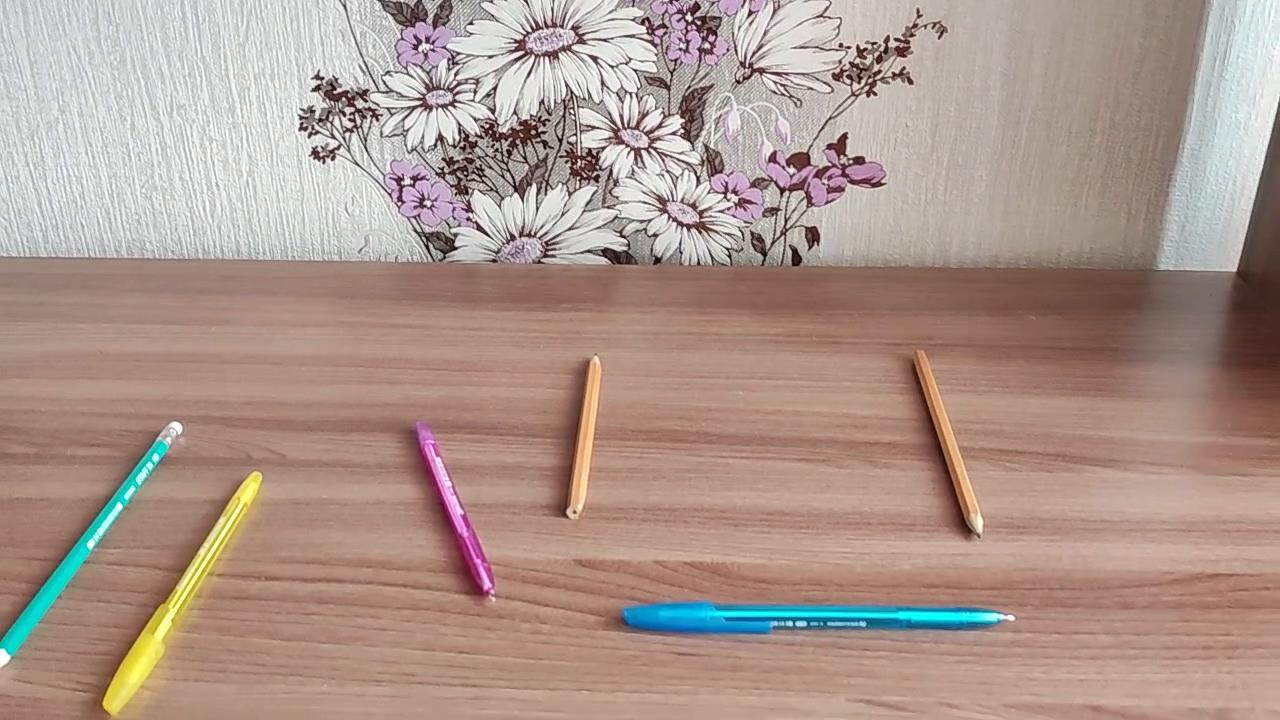pen: (101, 468, 271, 718), (613, 595, 1026, 639), (411, 416, 500, 603)
pencil: (0, 416, 186, 672), (913, 346, 988, 542), (563, 352, 605, 523)
